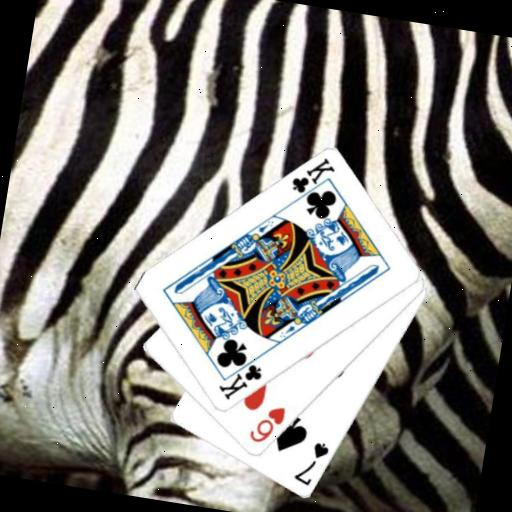6H: (245, 399, 288, 448)
7S: (290, 435, 332, 490)
KC: (285, 149, 338, 209), (213, 347, 266, 406)
